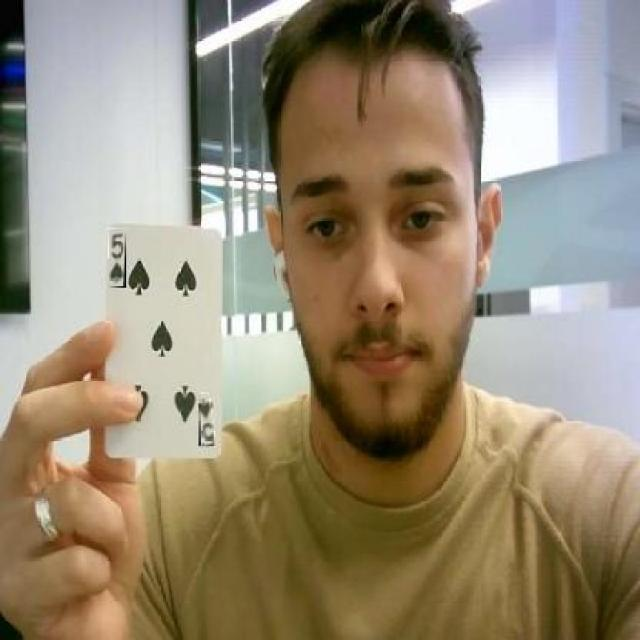5S: (109, 228, 126, 288), (198, 392, 214, 446)
